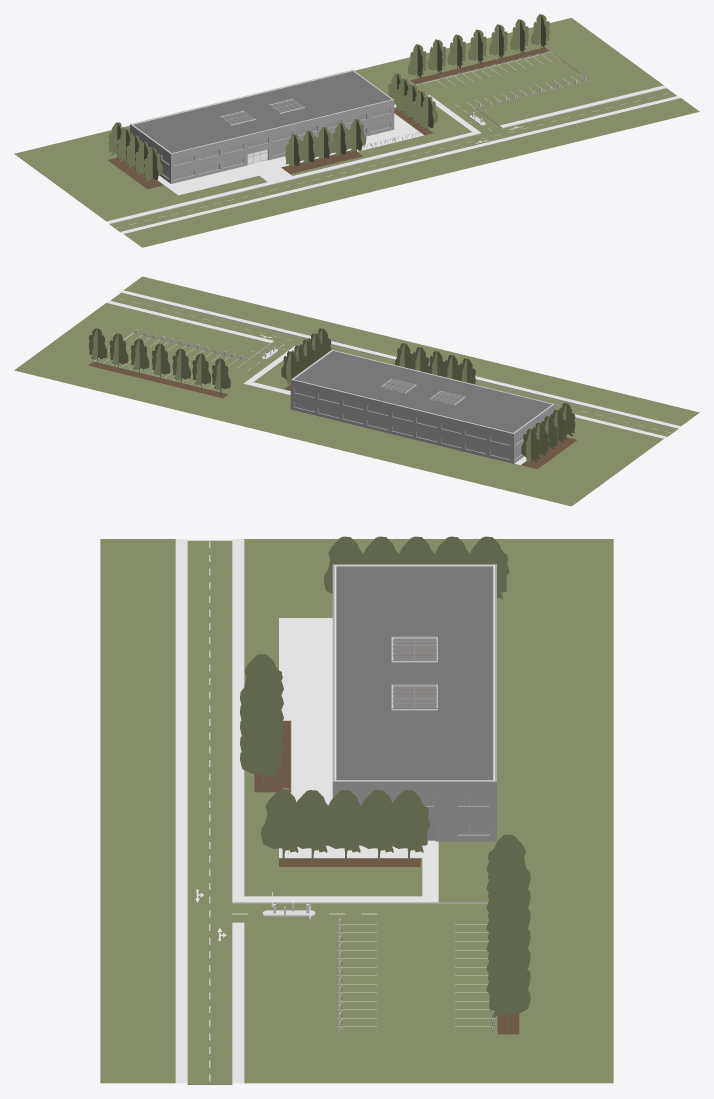
The picture shows the model from 3 angles, top to bottom: view 1: azimuth 30°, elevation 25°; view 2: azimuth 150°, elevation 25°; view 3: azimuth 270°, elevation 25°; orthographic projection. The views are drawn at different scales.
Parts seen in each view (by area): view 1: 3A8hY1UoD7JhnLeZeDyU4B, 3A8hY1UoD7JhnLeZeDyU2J, 0CWDnGbzX4Sf1BesT9Tj4o, 3A8hY1UoD7JhnLeZeDyUs3, 12bPoIwbv0tBGfPfnvCUc2, 3A8hY1UoD7JhnLeZeDyQc9, 3A8hY1UoD7JhnLeZeDyU2I, 0P898JVsX6VQGfAj0lC8$w, 12bPoIwbv0tBGfPfnvCUau, 0P898JVsX6VQGfAj0lC8w9, 0P898JVsX6VQGfAj0lC8zf, 0P898JVsX6VQGfAj0lC8wV (+12 smaller); view 2: 3A8hY1UoD7JhnLeZeDyU4B, 0CWDnGbzX4Sf1BesT9Tj4o, 3A8hY1UoD7JhnLeZeDyU2J, 12bPoIwbv0tBGfPfnvCUYu, 3A8hY1UoD7JhnLeZeDyUs3, 3A8hY1UoD7JhnLeZeDyU2I, 0P898JVsX6VQGfAj0lC8$w, 12bPoIwbv0tBGfPfnvCUau, 3A8hY1UoD7JhnLeZeDyQc9, 3A8hY1UoD7JhnLeZeDyQto, 0P898JVsX6VQGfAj0lC8zP, 0P898JVsX6VQGfAj0lC8yl (+7 smaller); view 3: 3A8hY1UoD7JhnLeZeDyU4B, 3A8hY1UoD7JhnLeZeDyU2J, 0CWDnGbzX4Sf1BesT9Tj4o, 3A8hY1UoD7JhnLeZeDyUs3, 12bPoIwbv0tBGfPfnvCUW2, 3A8hY1UoD7JhnLeZeDyQc9, 0P898JVsX6VQGfAj0lC8w9, 3A8hY1UoD7JhnLeZeDyQqa, 3A8hY1UoD7JhnLeZeDyQpf, 3A8hY1UoD7JhnLeZeDyQqC, 3A8hY1UoD7JhnLeZeDyQqq, 3A8hY1UoD7JhnLeZeDyQq4 (+11 smaller).
Boxes of the visible parts, box(x1,y1,x2,y2) form: 3A8hY1UoD7JhnLeZeDyU4B: box(14, 18, 699, 247); 3A8hY1UoD7JhnLeZeDyU2J: box(109, 52, 676, 232); 0CWDnGbzX4Sf1BesT9Tj4o: box(133, 71, 390, 152); 3A8hY1UoD7JhnLeZeDyUs3: box(106, 85, 680, 233); 12bPoIwbv0tBGfPfnvCUc2: box(170, 99, 393, 183); 3A8hY1UoD7JhnLeZeDyQc9: box(107, 108, 433, 189); 3A8hY1UoD7JhnLeZeDyU2I: box(109, 52, 666, 224); 0P898JVsX6VQGfAj0lC8$w: box(410, 47, 549, 84); 12bPoIwbv0tBGfPfnvCUau: box(130, 124, 170, 183); 0P898JVsX6VQGfAj0lC8w9: box(531, 14, 549, 54); 0P898JVsX6VQGfAj0lC8zf: box(489, 24, 507, 64); 0P898JVsX6VQGfAj0lC8wV: box(510, 19, 528, 59); 3A8hY1UoD7JhnLeZeDyU4B: box(14, 276, 699, 506); 0CWDnGbzX4Sf1BesT9Tj4o: box(294, 351, 551, 432); 3A8hY1UoD7JhnLeZeDyU2J: box(95, 293, 677, 436); 12bPoIwbv0tBGfPfnvCUYu: box(290, 379, 513, 463); 3A8hY1UoD7JhnLeZeDyUs3: box(106, 290, 680, 464); 3A8hY1UoD7JhnLeZeDyU2I: box(94, 292, 677, 437); 0P898JVsX6VQGfAj0lC8$w: box(88, 361, 228, 398); 12bPoIwbv0tBGfPfnvCUau: box(513, 404, 554, 463); 3A8hY1UoD7JhnLeZeDyQc9: box(284, 384, 576, 468); 3A8hY1UoD7JhnLeZeDyQto: box(521, 429, 539, 465); 0P898JVsX6VQGfAj0lC8zP: box(192, 353, 210, 390); 0P898JVsX6VQGfAj0lC8yl: box(212, 358, 230, 394); 3A8hY1UoD7JhnLeZeDyU4B: box(100, 539, 613, 1083); 3A8hY1UoD7JhnLeZeDyU2J: box(187, 540, 494, 1084); 0CWDnGbzX4Sf1BesT9Tj4o: box(336, 567, 493, 780); 3A8hY1UoD7JhnLeZeDyUs3: box(175, 539, 438, 1083); 12bPoIwbv0tBGfPfnvCUW2: box(332, 781, 494, 841); 3A8hY1UoD7JhnLeZeDyQc9: box(254, 721, 420, 866); 0P898JVsX6VQGfAj0lC8w9: box(486, 954, 530, 1029); 3A8hY1UoD7JhnLeZeDyQqa: box(261, 790, 304, 862); 3A8hY1UoD7JhnLeZeDyQpf: box(240, 715, 283, 787); 3A8hY1UoD7JhnLeZeDyQqC: box(358, 790, 400, 862); 3A8hY1UoD7JhnLeZeDyQqq: box(324, 790, 366, 862); 3A8hY1UoD7JhnLeZeDyQq4: box(386, 790, 430, 862).
Size of the model in its own units: 159 by 13.82 by 63.53.
